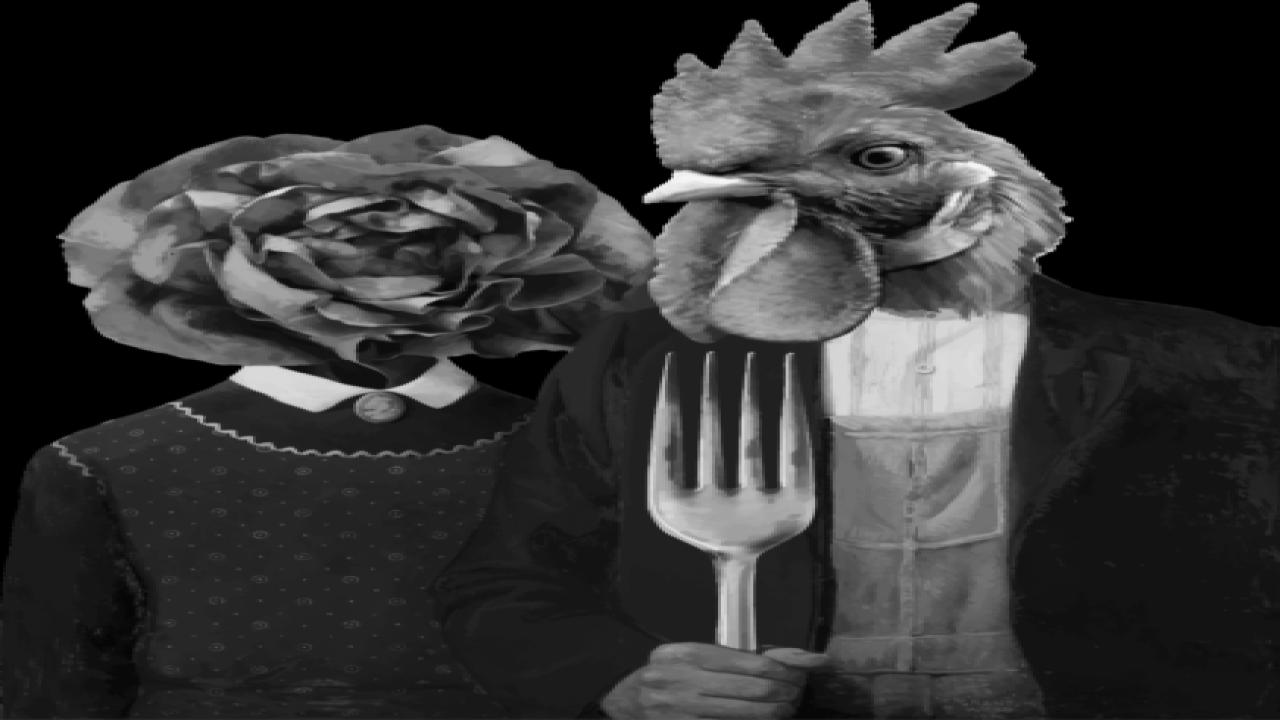fork: (644, 348, 818, 654)
